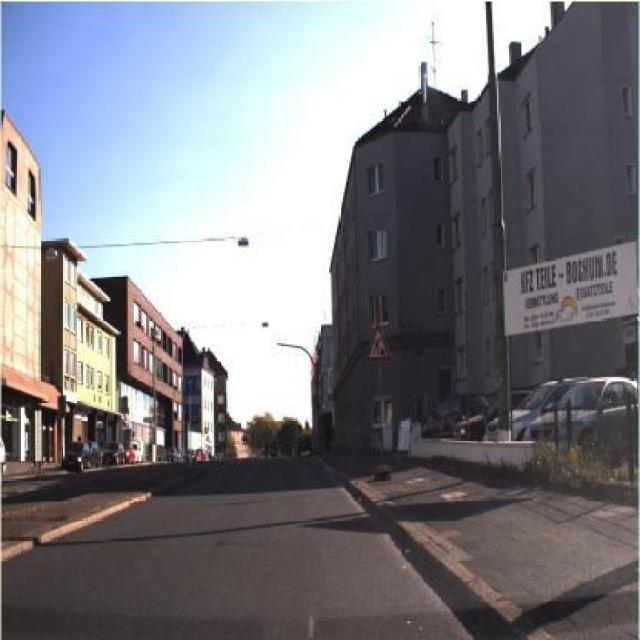traffic_sign: (364, 324, 393, 365)
